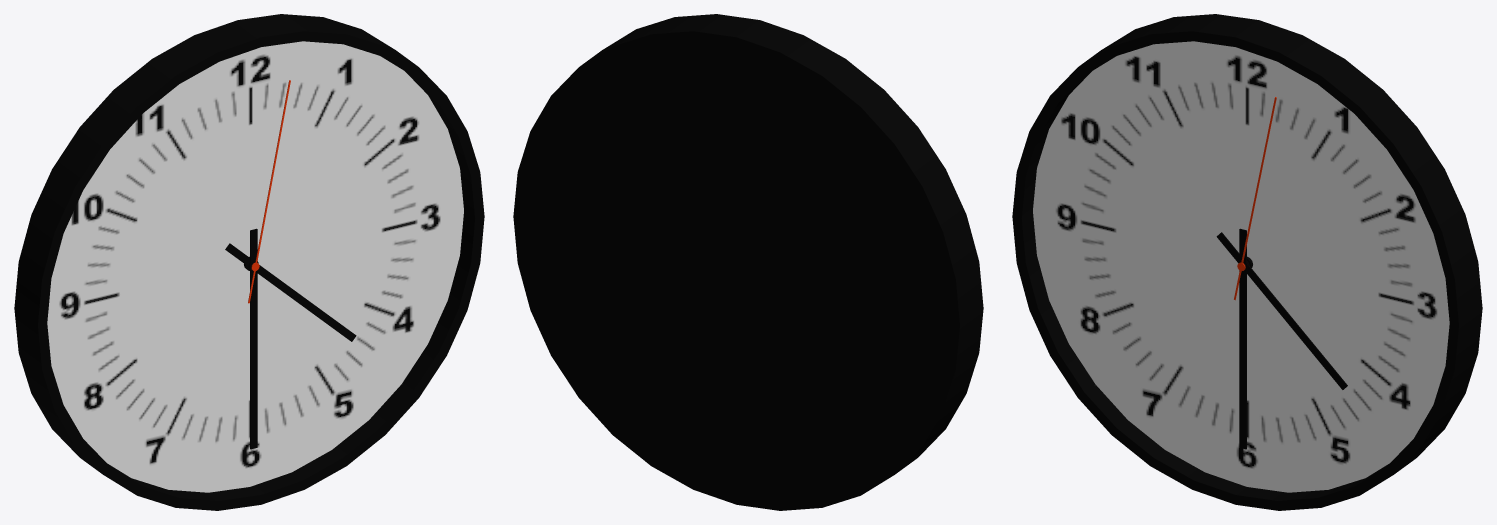
Rendered from Clock.fbx.
3 views of the same model, side by side, from view 1: azimuth 30°, elevation 25°; view 2: azimuth 150°, elevation 25°; view 3: azimuth 330°, elevation 25° (orthographic).
Parts seen in each view (by area): view 1: Clock; view 2: Clock; view 3: Clock.
Boxes of the visible parts, x1=… form: Clock: x1=14, y1=14, x2=484, y2=510; Clock: x1=513, y1=14, x2=983, y2=510; Clock: x1=1012, y1=14, x2=1482, y2=510.
Size of the model in its own units: 90.57 by 90.57 by 8.25.
